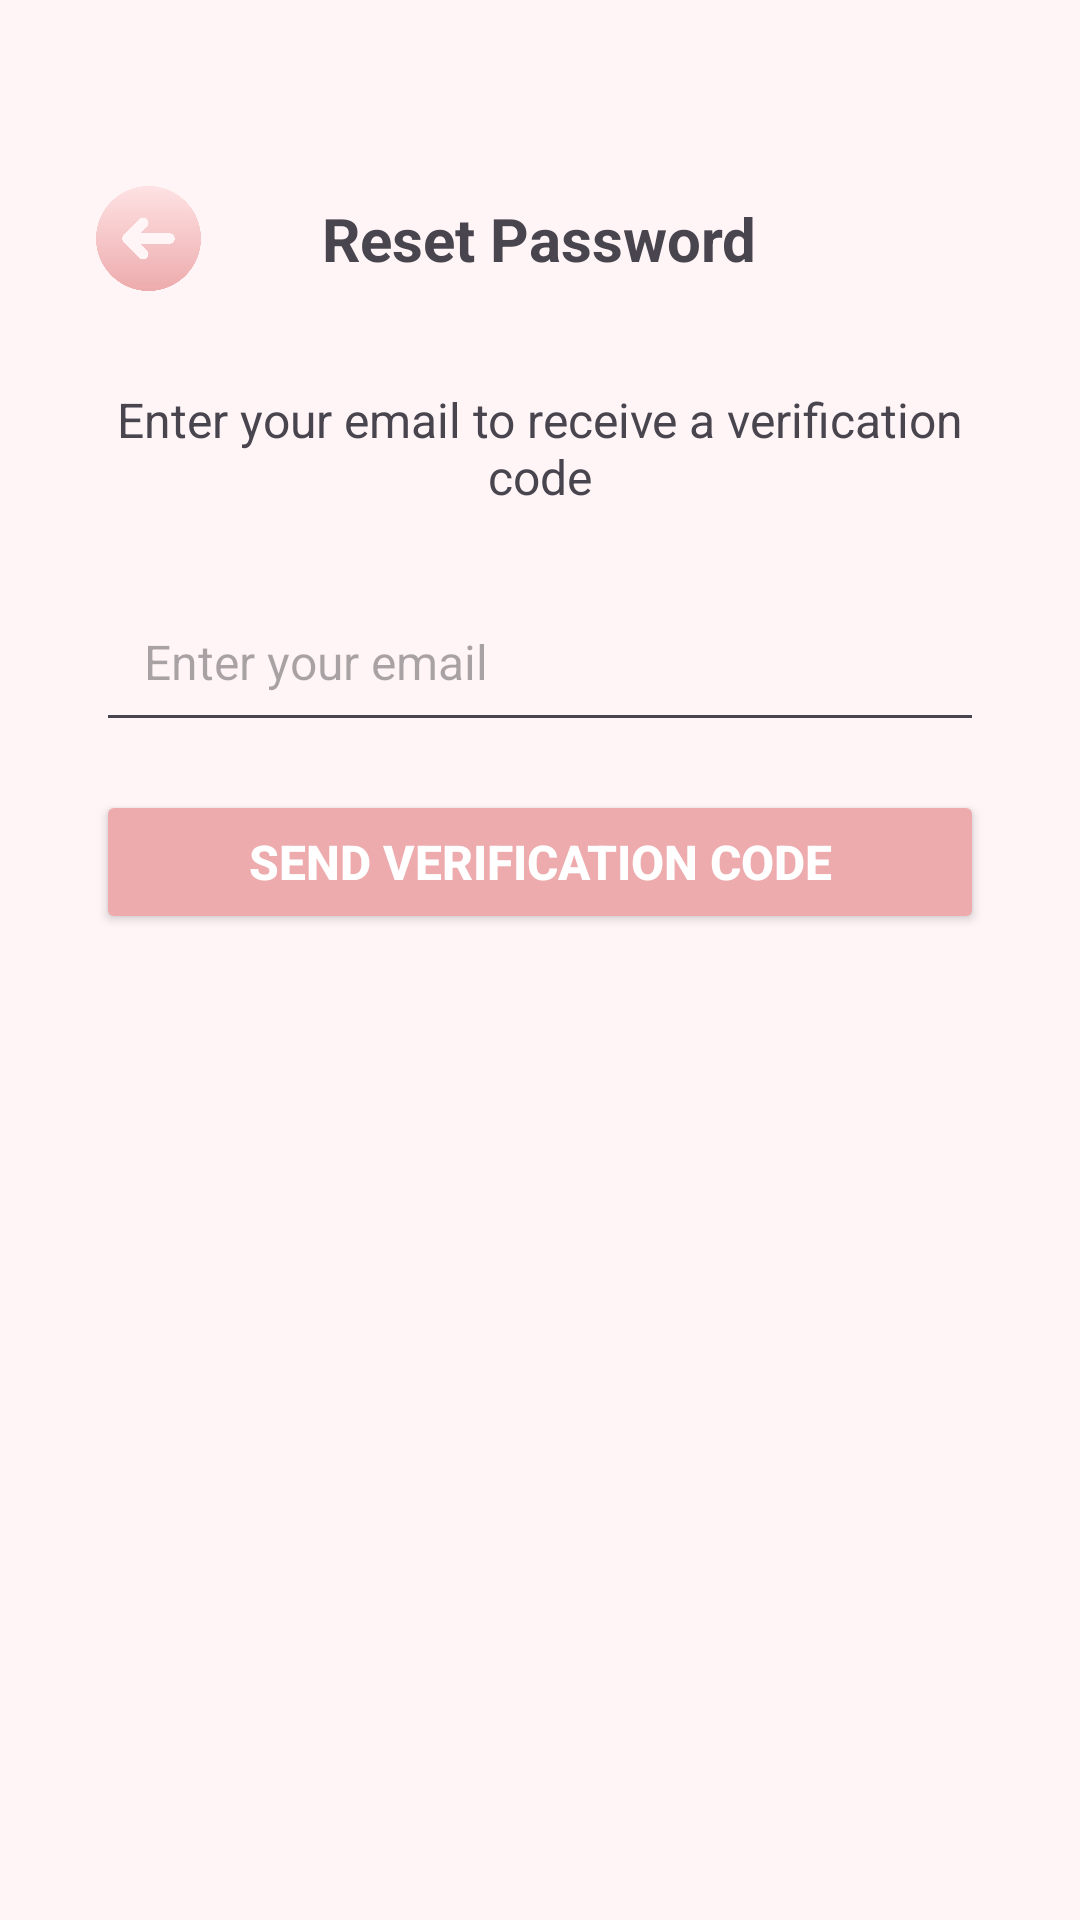

Icon bounding boxes for this 1080*1920 phone screenshot, format (x1, y1, x2, y2):
Back to login: (96, 195, 201, 291)
